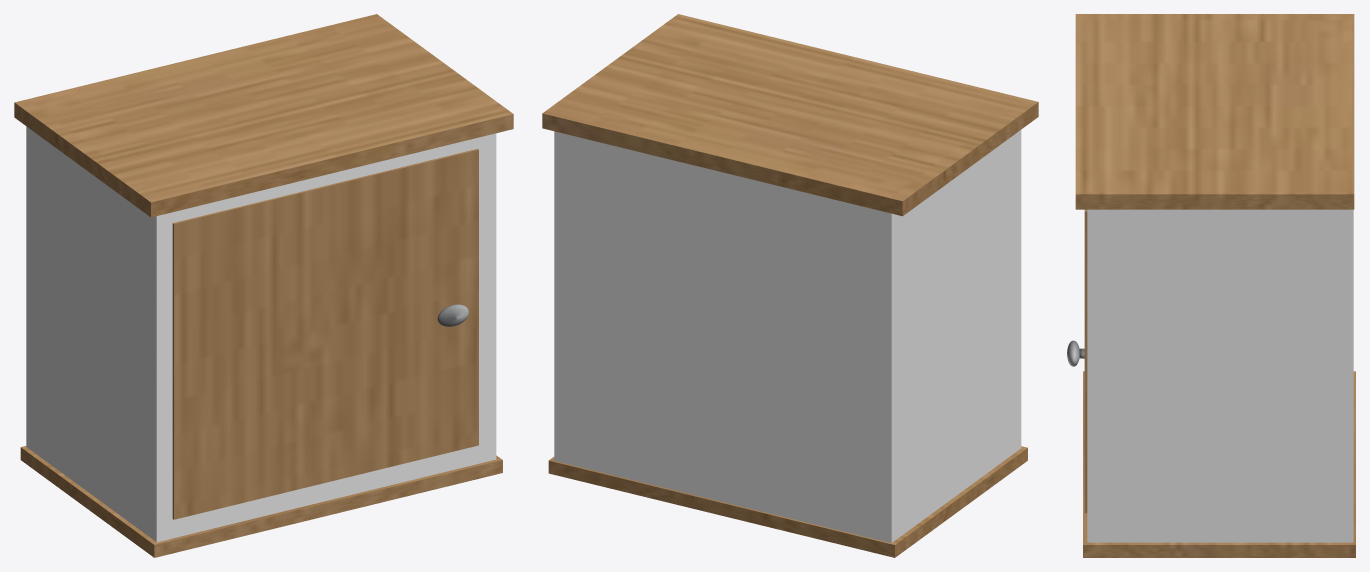
The model's file is Floating Cupboard (right).fbx.
3 renders of one model, left to right at view 1: azimuth 30°, elevation 25°; view 2: azimuth 150°, elevation 25°; view 3: azimuth 270°, elevation 25°, orthographic. The views are drawn at different scales.
Parts seen in each view (by area): view 1: Door 1, Base, Counter, Base.001; view 2: Base, Counter, Base.001; view 3: Base, Counter, Base.001, Door 1.
Boxes of the visible parts, left/top/right/bottom form: Door 1: left=172, top=149, right=478, bottom=519; Base: left=26, top=126, right=496, bottom=542; Counter: left=14, top=14, right=513, bottom=217; Base.001: left=20, top=446, right=502, bottom=557; Base: left=554, top=130, right=1021, bottom=542; Counter: left=542, top=14, right=1038, bottom=216; Base.001: left=548, top=446, right=1027, bottom=557; Base: left=1087, top=209, right=1353, bottom=542; Counter: left=1075, top=14, right=1354, bottom=209; Base.001: left=1083, top=371, right=1355, bottom=557; Door 1: left=1084, top=209, right=1087, bottom=513.
Bounding box in the file's own units: 0.6648 × 0.6306 × 0.4498.
